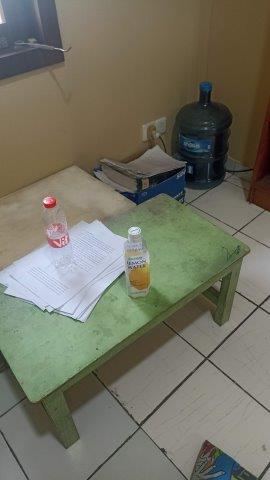botolplastik: (39, 195, 74, 271), (120, 227, 154, 299)
kertas: (1, 218, 131, 322)
